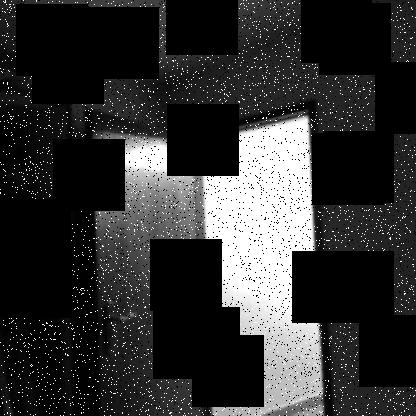Porte: (79, 98, 336, 416)
